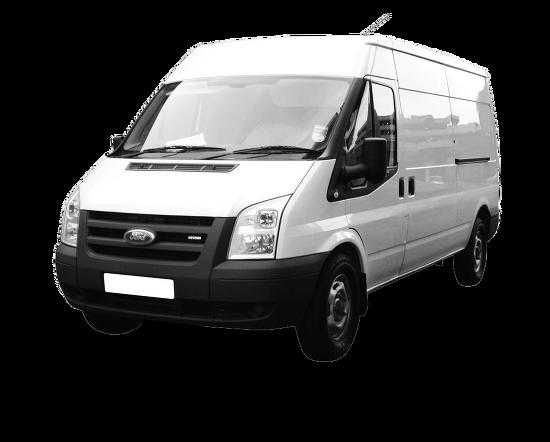van: (53, 31, 502, 363)
